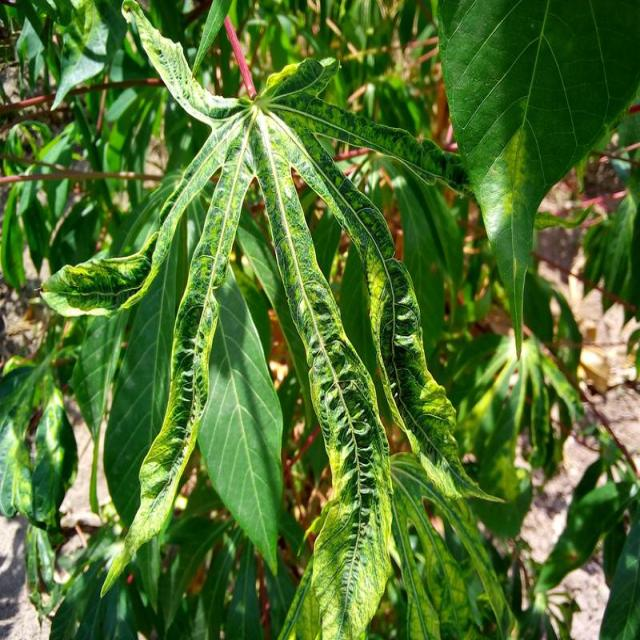cassava leaf: (39, 1, 512, 638), (435, 0, 640, 359)
